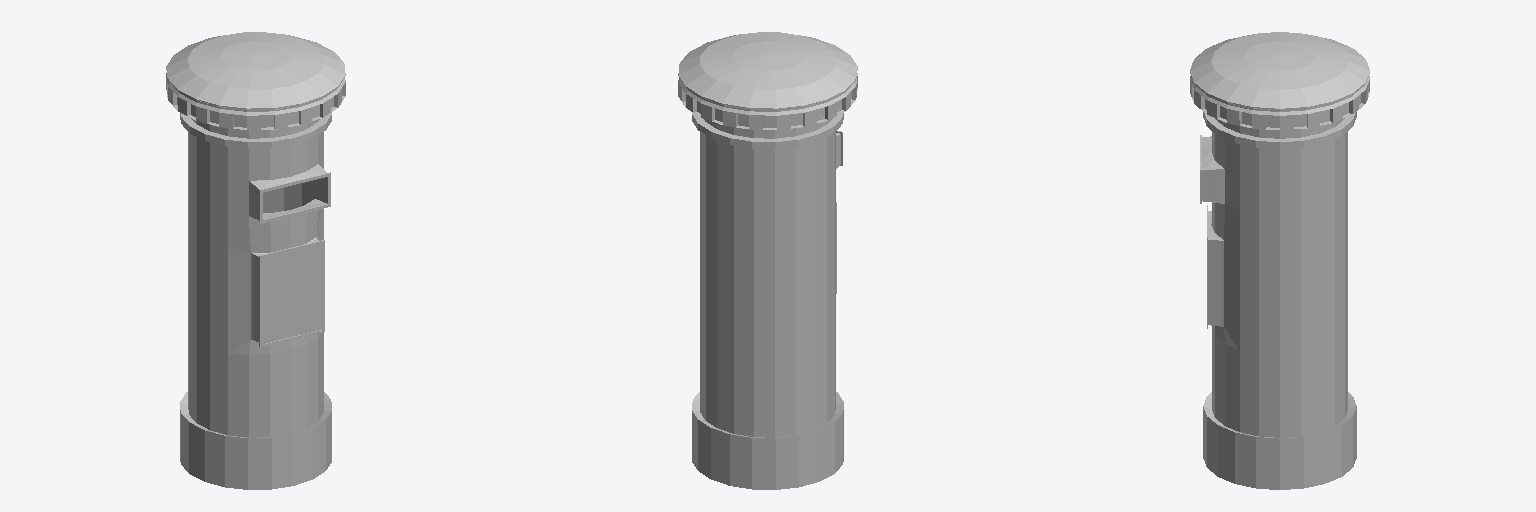
The model's file is texturedPostbox.obj.
3 views of the same model, side by side, from view 1: azimuth 30°, elevation 25°; view 2: azimuth 150°, elevation 25°; view 3: azimuth 270°, elevation 25° (orthographic).
Parts seen in each view (by area): view 1: polySurface474 polySurface470; view 2: polySurface474 polySurface470; view 3: polySurface474 polySurface470.
Part boxes in pixels (bbox=[...]): polySurface474 polySurface470: bbox=[166, 32, 345, 489]; polySurface474 polySurface470: bbox=[678, 32, 857, 489]; polySurface474 polySurface470: bbox=[1190, 32, 1369, 489].
Size of the model in its own units: 110 by 271 by 110.